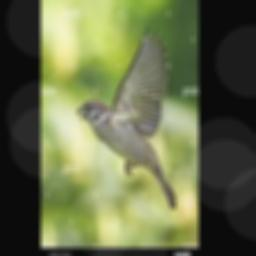Sparrow: (76, 28, 176, 208)
